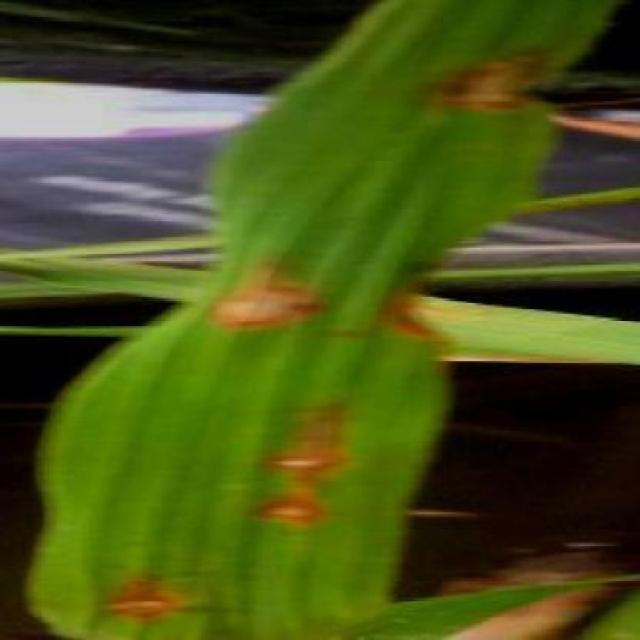Bacterial_Leaf_Blight: (416, 30, 566, 145), (201, 231, 322, 352), (248, 375, 352, 482), (92, 550, 195, 638), (234, 485, 348, 557)
